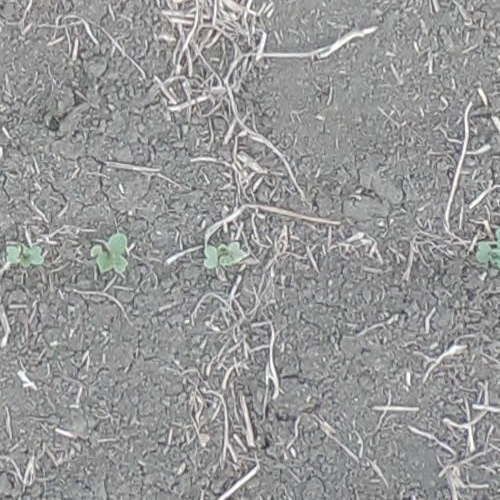plant: (91, 233, 127, 274), (204, 241, 245, 269), (477, 221, 499, 269), (6, 244, 43, 268)
